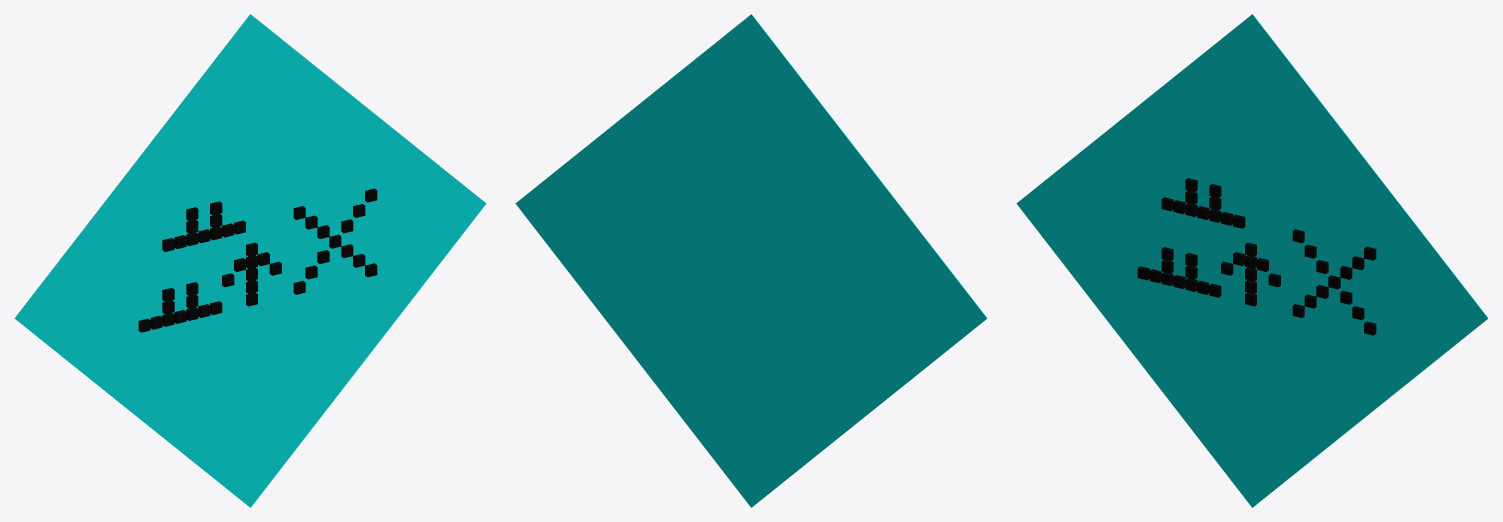
The model's file is DestroyALLCopySetCoins.fbx.
The picture shows the model from 3 angles, left to right: view 1: azimuth 30°, elevation 25°; view 2: azimuth 150°, elevation 25°; view 3: azimuth 330°, elevation 25°; orthographic projection.
Parts seen in each view (by area): view 1: Cube.021; view 2: Cube.021; view 3: Cube.021.
Part boxes in pixels (bbox=[...]): Cube.021: bbox=[14, 14, 486, 507]; Cube.021: bbox=[515, 14, 987, 507]; Cube.021: bbox=[1016, 14, 1488, 507].
Size of the model in its own units: 198 by 198 by 2.1.
